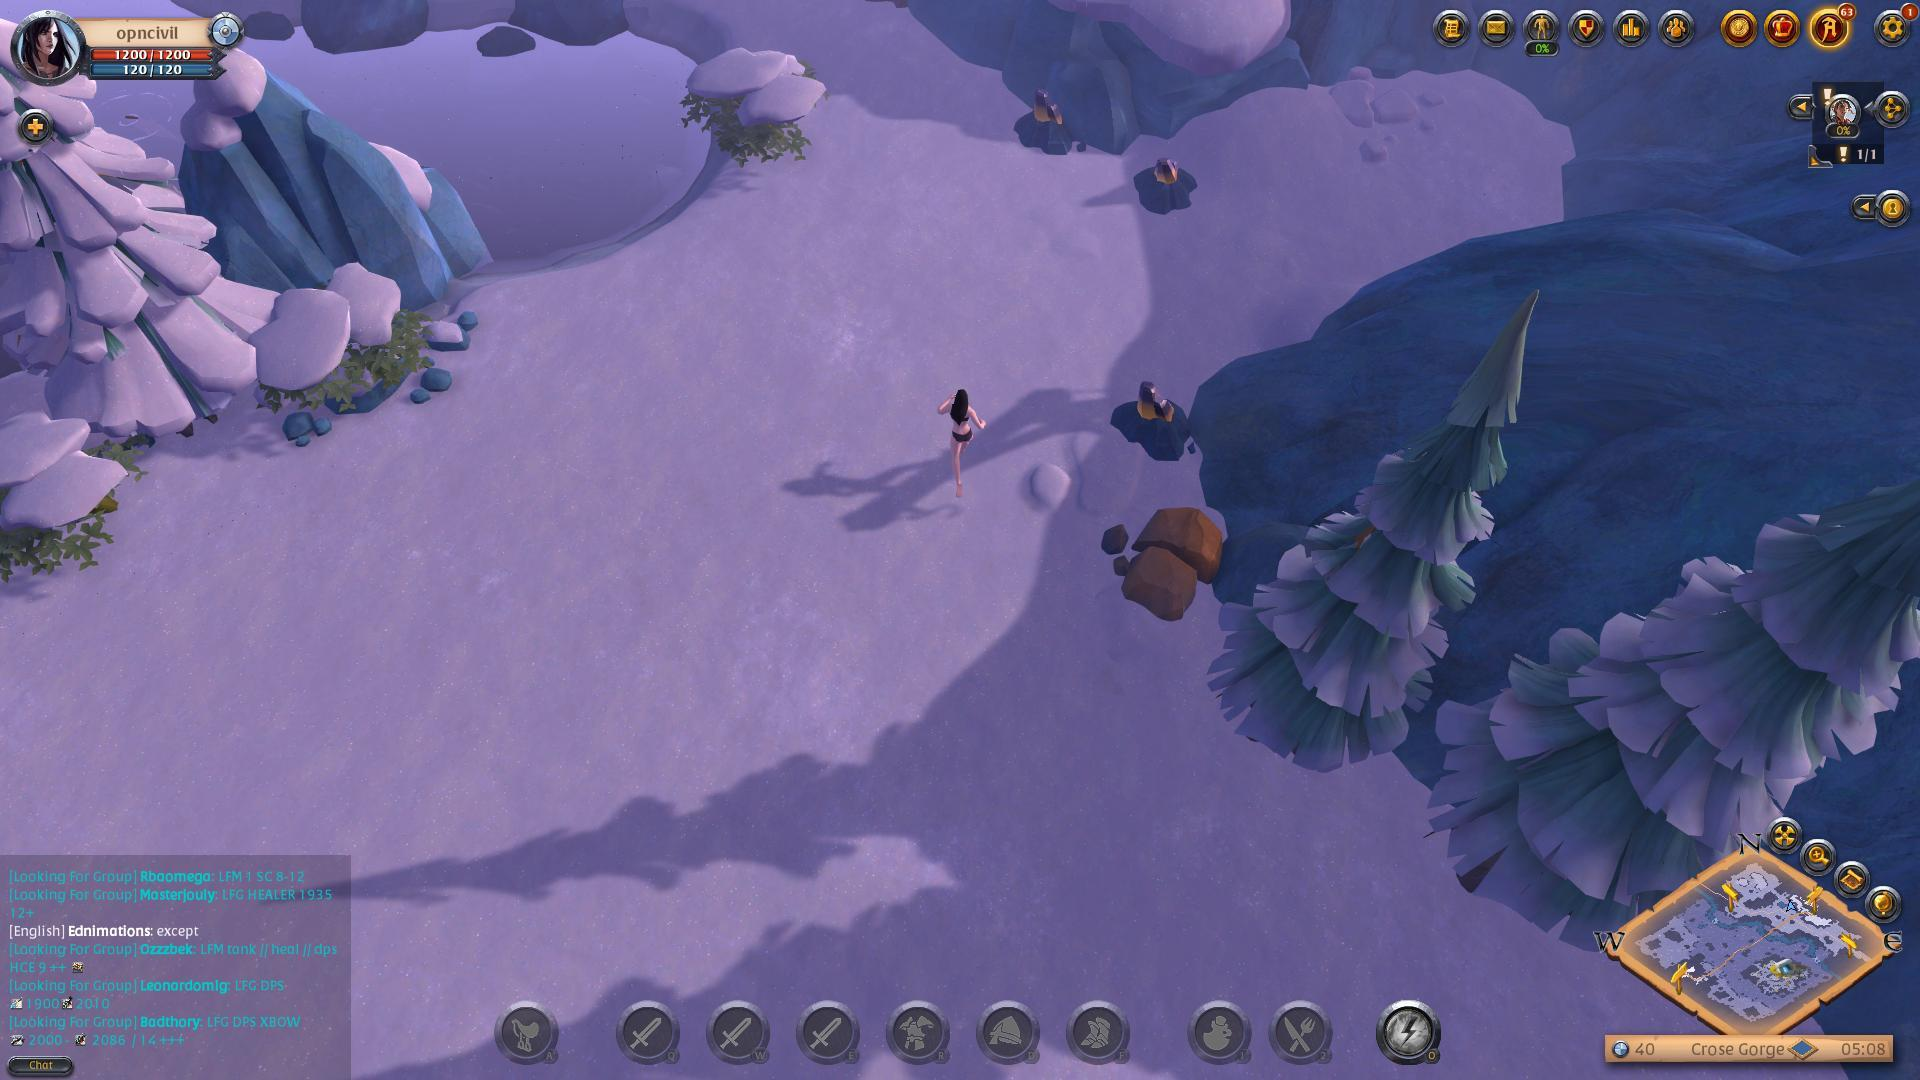copper_ore: (1009, 78, 1092, 169), (1102, 385, 1200, 462), (1114, 154, 1224, 222)
limestone: (1098, 492, 1241, 629)
